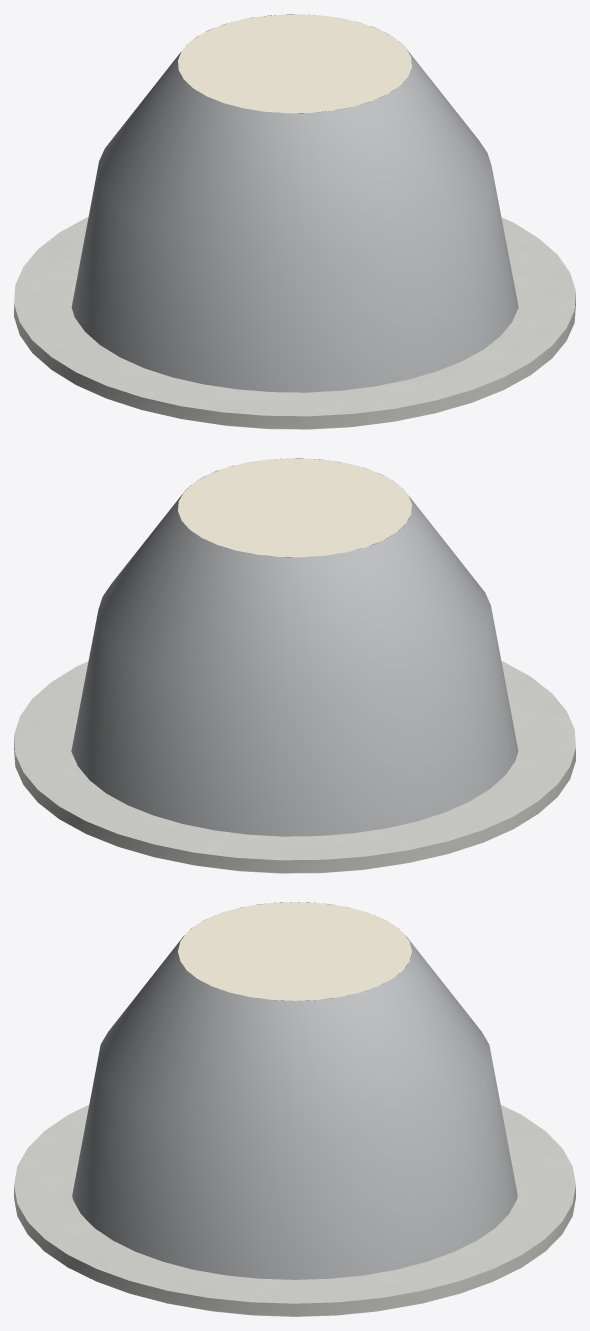
File: RecessedDownlight.obj
3 renders of one model, top to bottom at view 1: azimuth 30°, elevation 25°; view 2: azimuth 150°, elevation 25°; view 3: azimuth 270°, elevation 25°, orthographic.
Parts seen in each view (by area): view 1: Reflector, Trim, Lens; view 2: Reflector, Trim, Lens; view 3: Reflector, Trim, Lens.
Part boxes in pixels (box(x1,y1,x2,y2)): Reflector: box(71, 14, 518, 392); Trim: box(14, 217, 575, 429); Lens: box(178, 14, 411, 113); Reflector: box(71, 458, 518, 836); Trim: box(14, 661, 575, 873); Lens: box(178, 458, 411, 557); Reflector: box(72, 902, 517, 1279); Trim: box(14, 1105, 575, 1316); Lens: box(178, 902, 411, 1000).
Bounding box in the file's own units: 0.12 × 0.06 × 0.12.
3 materials, 1 textured.
